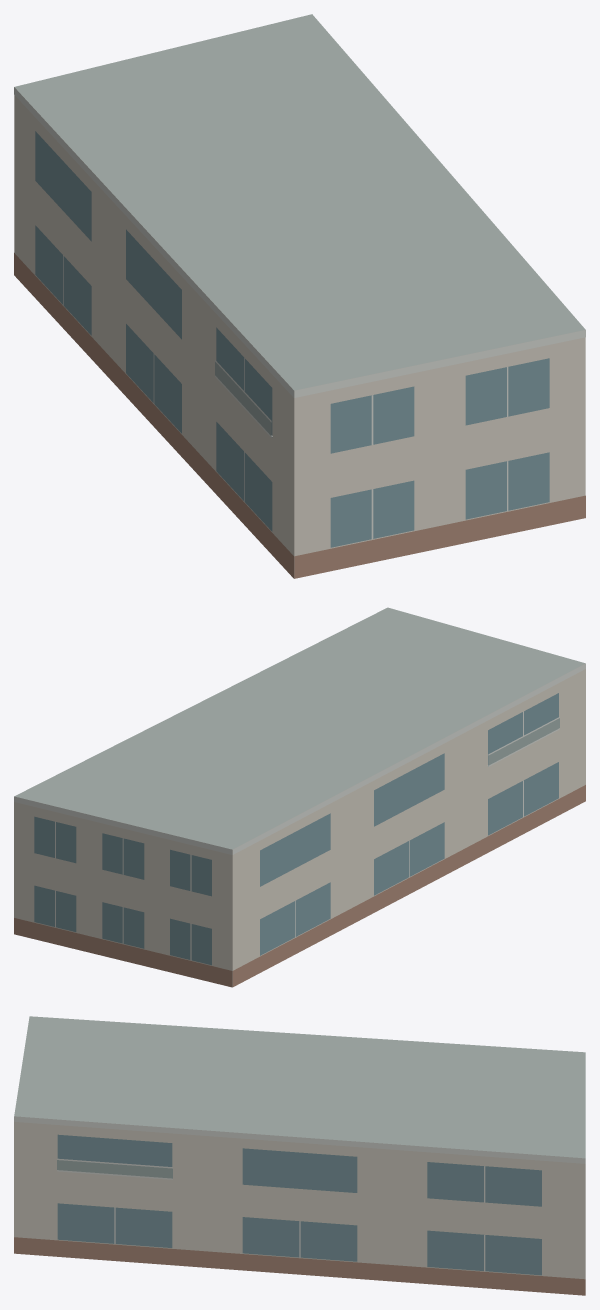
Rendered from survey-upis-32911364.glb.
The picture shows the model from 3 angles, top to bottom: view 1: azimuth 30°, elevation 25°; view 2: azimuth 150°, elevation 25°; view 3: azimuth 270°, elevation 25°; orthographic projection. The views are drawn at different scales.
Visible parts, largest first — view 1: survey-upis-32911364.tmp; view 2: survey-upis-32911364.tmp; view 3: survey-upis-32911364.tmp.
Boxes of the visible parts, x1,y1,x2,y2 form: survey-upis-32911364.tmp: [14, 14, 585, 578]; survey-upis-32911364.tmp: [14, 607, 585, 987]; survey-upis-32911364.tmp: [14, 1016, 585, 1295].
Bounding box in the file's own units: 13.56 × 6.1 × 23.04.
